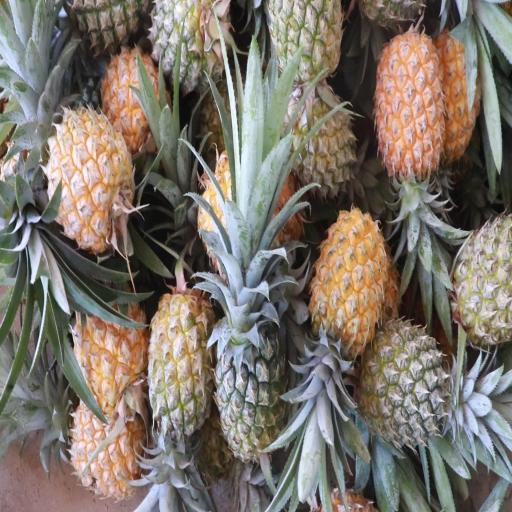------------------------------: (148, 289, 212, 461)
Pineapple - v8 v1: (378, 30, 448, 263), (316, 213, 387, 442), (42, 121, 141, 254), (76, 296, 158, 429), (100, 54, 176, 168), (439, 32, 487, 178), (74, 416, 150, 504)
